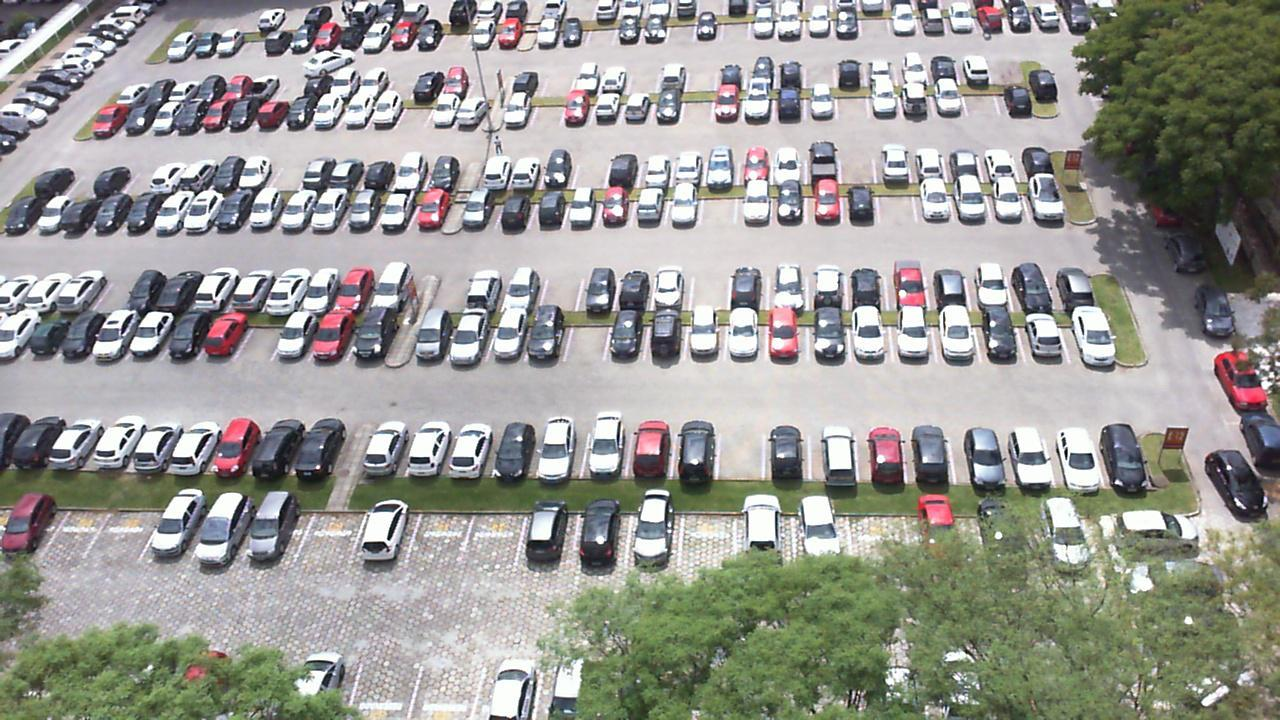empty: (295, 498, 363, 562), (87, 500, 158, 561), (461, 507, 527, 567), (408, 504, 475, 561), (42, 501, 110, 555), (234, 305, 291, 363), (718, 417, 764, 479), (565, 310, 604, 364), (689, 260, 727, 309), (426, 269, 471, 310), (537, 266, 580, 307), (880, 182, 915, 219), (702, 184, 734, 222)
occupied: (188, 500, 264, 564), (141, 501, 211, 563), (246, 494, 305, 564), (1089, 416, 1151, 479), (351, 501, 418, 558), (446, 416, 508, 477), (997, 419, 1054, 485), (518, 503, 581, 562), (624, 507, 683, 570), (127, 413, 185, 473), (1045, 417, 1098, 481), (952, 418, 1004, 482), (576, 505, 629, 567), (211, 417, 268, 474), (165, 417, 223, 473), (443, 306, 497, 366), (903, 421, 957, 480), (856, 422, 909, 482), (535, 420, 588, 478), (272, 301, 323, 361), (492, 418, 545, 475), (254, 416, 307, 472), (307, 308, 359, 365), (625, 418, 672, 481), (1059, 304, 1113, 358), (295, 420, 349, 474), (405, 416, 457, 472), (523, 304, 571, 364), (811, 421, 858, 480), (349, 306, 396, 364), (763, 417, 809, 476), (481, 309, 529, 365), (669, 418, 717, 474), (202, 303, 249, 360), (580, 419, 626, 477), (972, 307, 1022, 360), (966, 255, 1014, 309), (362, 420, 412, 471), (885, 253, 931, 306), (259, 265, 312, 310), (410, 307, 449, 368), (226, 267, 280, 310), (606, 310, 648, 364), (1051, 258, 1098, 306), (295, 266, 344, 312), (934, 309, 976, 362), (375, 184, 421, 232), (888, 311, 934, 359), (1017, 310, 1062, 359), (1011, 256, 1054, 307), (310, 185, 355, 233), (335, 268, 386, 310), (643, 312, 685, 363), (849, 257, 889, 310), (725, 311, 766, 362), (808, 308, 848, 360), (278, 185, 324, 230), (1021, 175, 1067, 220), (377, 268, 424, 312), (345, 186, 388, 234), (928, 257, 969, 307), (851, 311, 891, 362), (809, 254, 848, 306), (573, 263, 618, 308), (763, 260, 807, 306), (458, 267, 503, 311), (409, 187, 452, 232), (461, 184, 503, 230), (767, 310, 804, 362), (503, 264, 546, 306), (614, 263, 655, 307), (690, 310, 724, 361), (648, 264, 688, 307), (728, 264, 766, 307), (956, 176, 992, 221), (735, 182, 772, 225), (598, 186, 634, 230), (565, 184, 599, 230), (917, 182, 956, 222), (987, 179, 1027, 218), (534, 186, 567, 232), (500, 186, 535, 229), (665, 186, 699, 227), (775, 182, 807, 225), (807, 183, 842, 222), (844, 183, 879, 222), (632, 187, 664, 226)
